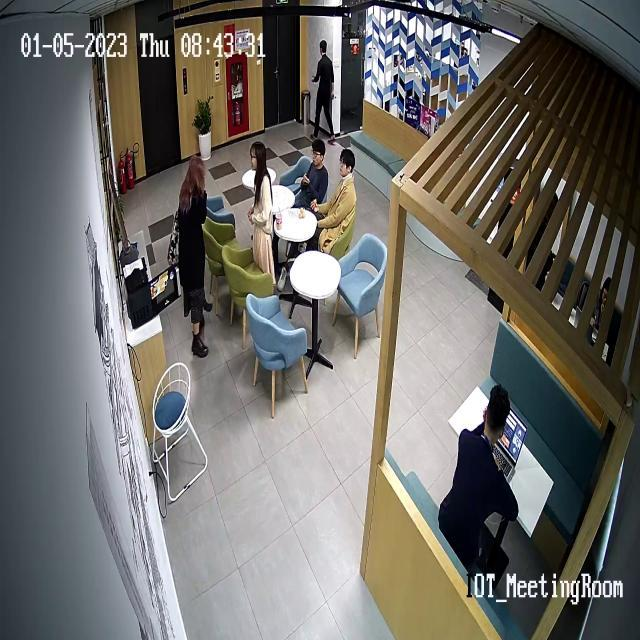person: (438, 383, 519, 598), (176, 154, 210, 359), (311, 147, 357, 257), (244, 141, 276, 281), (294, 139, 329, 213), (311, 40, 336, 142)
